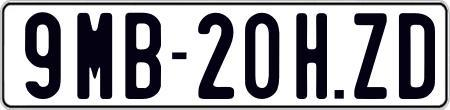0: (245, 10, 285, 99)
2: (196, 10, 238, 101)
9: (22, 11, 60, 99)
B: (125, 13, 167, 99)
D: (399, 12, 437, 104)
H: (296, 11, 331, 99)
M: (74, 10, 110, 99)
Z: (354, 10, 387, 98)
